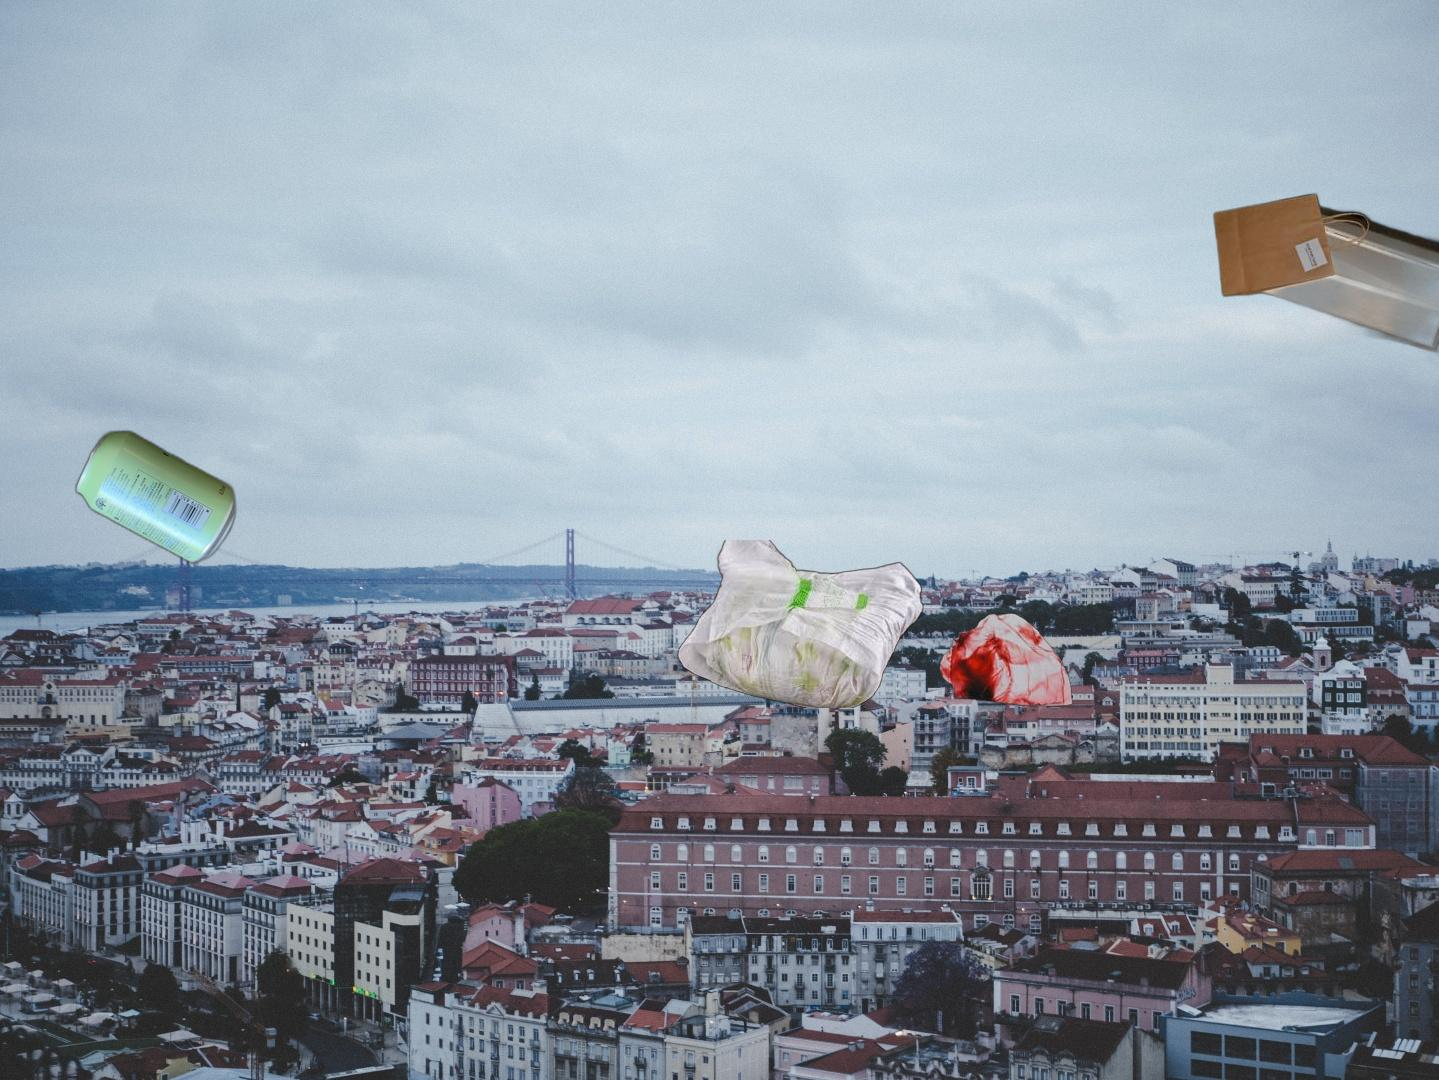metal-cans: (1221, 412, 1439, 1080), (71, 424, 242, 569)
paper-bag: (1210, 191, 1439, 415)
plastic-bag: (936, 610, 1075, 708)
trash: (675, 540, 926, 708)
